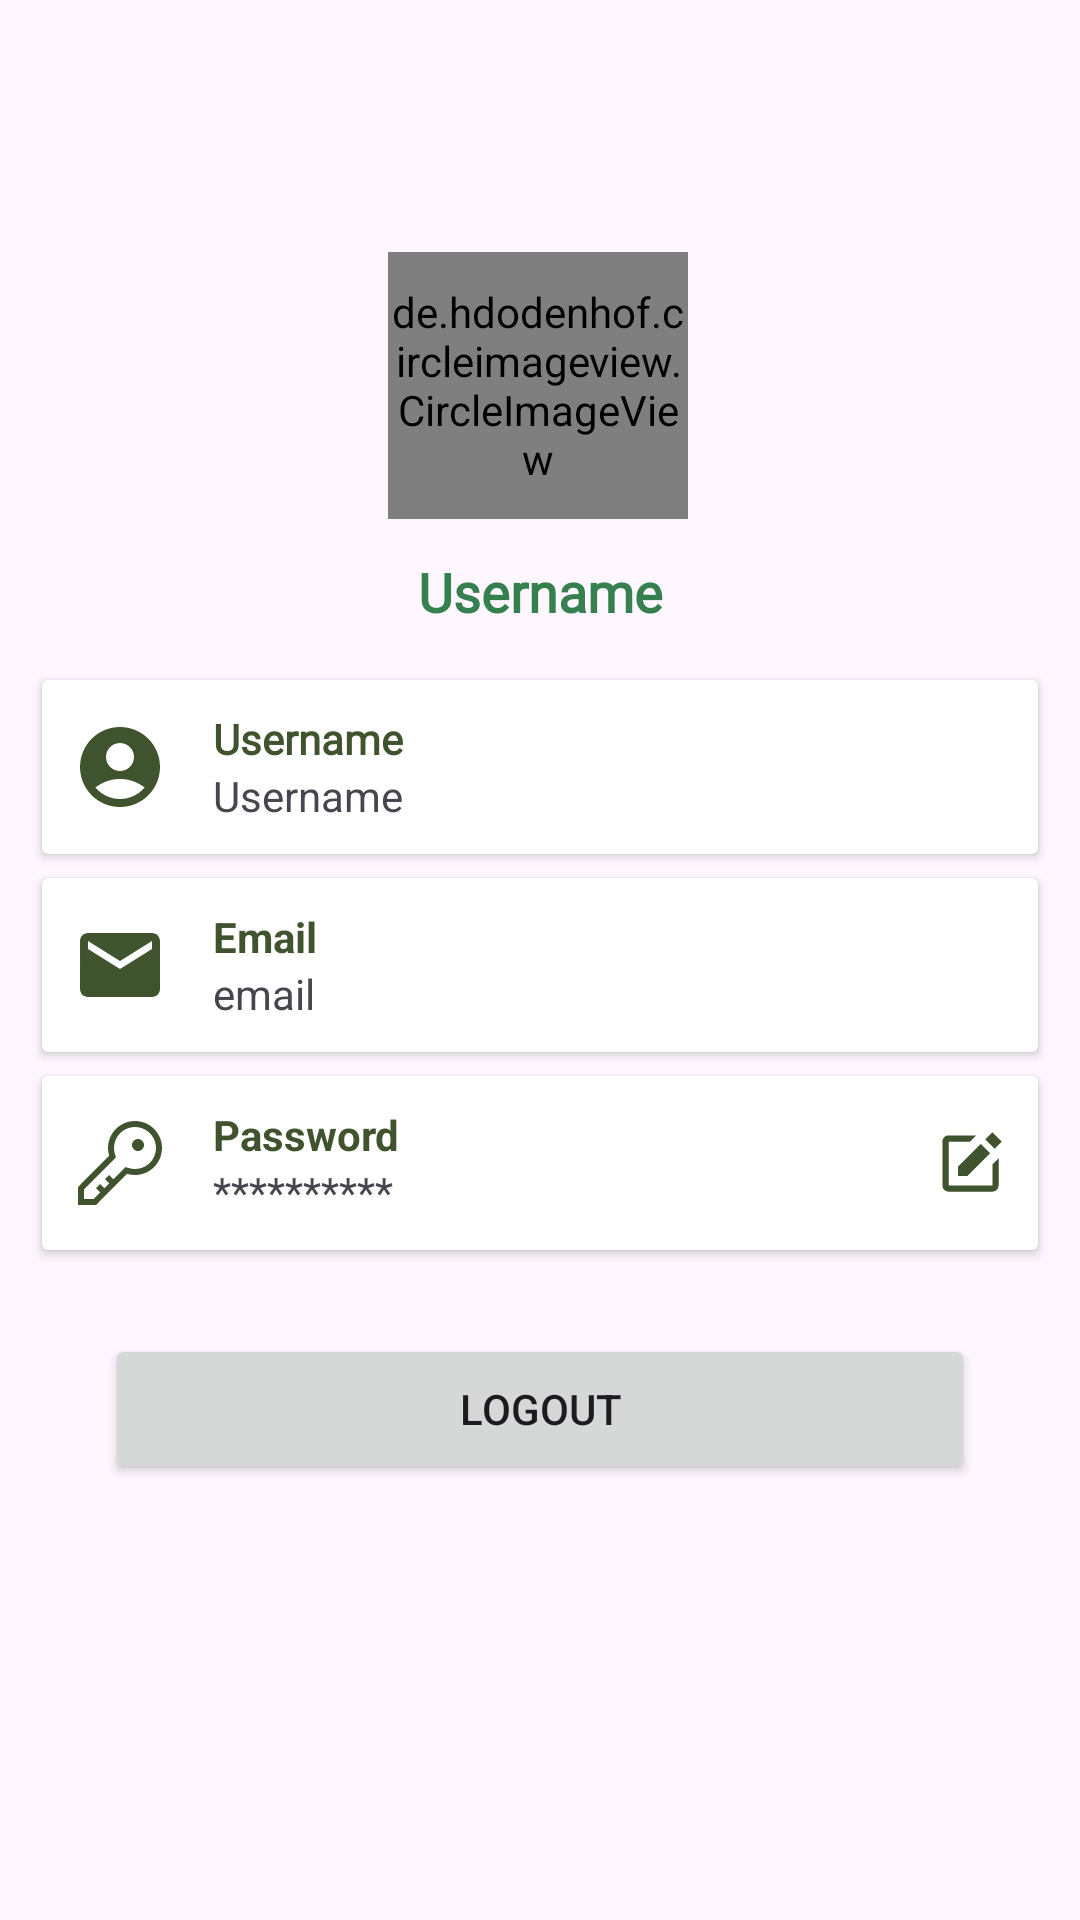

Icons on this 1080px×1920px Android screen, each with the point to tap as point (x, y):
edit: point (972, 1162)
ijotuaprofile: point (120, 767)
